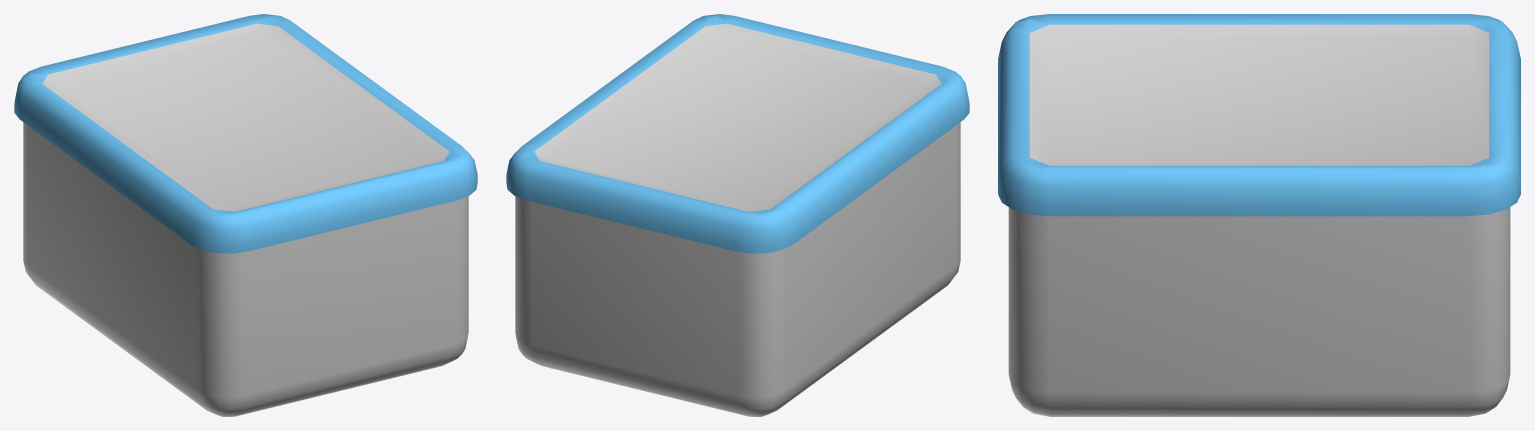
The model's file is Tupperware.fbx.
3 views of the same model, side by side, from view 1: azimuth 30°, elevation 25°; view 2: azimuth 150°, elevation 25°; view 3: azimuth 270°, elevation 25° (orthographic). The views are drawn at different scales.
Visible parts, largest first — view 1: Tupperware; view 2: Tupperware; view 3: Tupperware.
Boxes of the visible parts, <box> form: Tupperware: <box>14,14,477,416</box>; Tupperware: <box>506,14,969,416</box>; Tupperware: <box>998,14,1520,416</box>.
Bounding box in the file's own units: 0.25 × 0.3286 × 0.1798.
